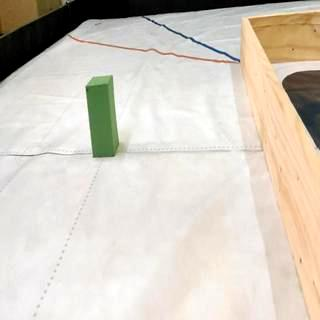greenbox: (87, 76, 117, 160)
